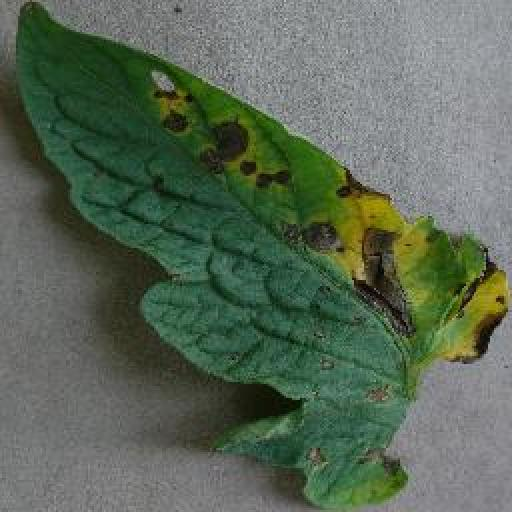disease_tomato: (10, 1, 512, 512)
